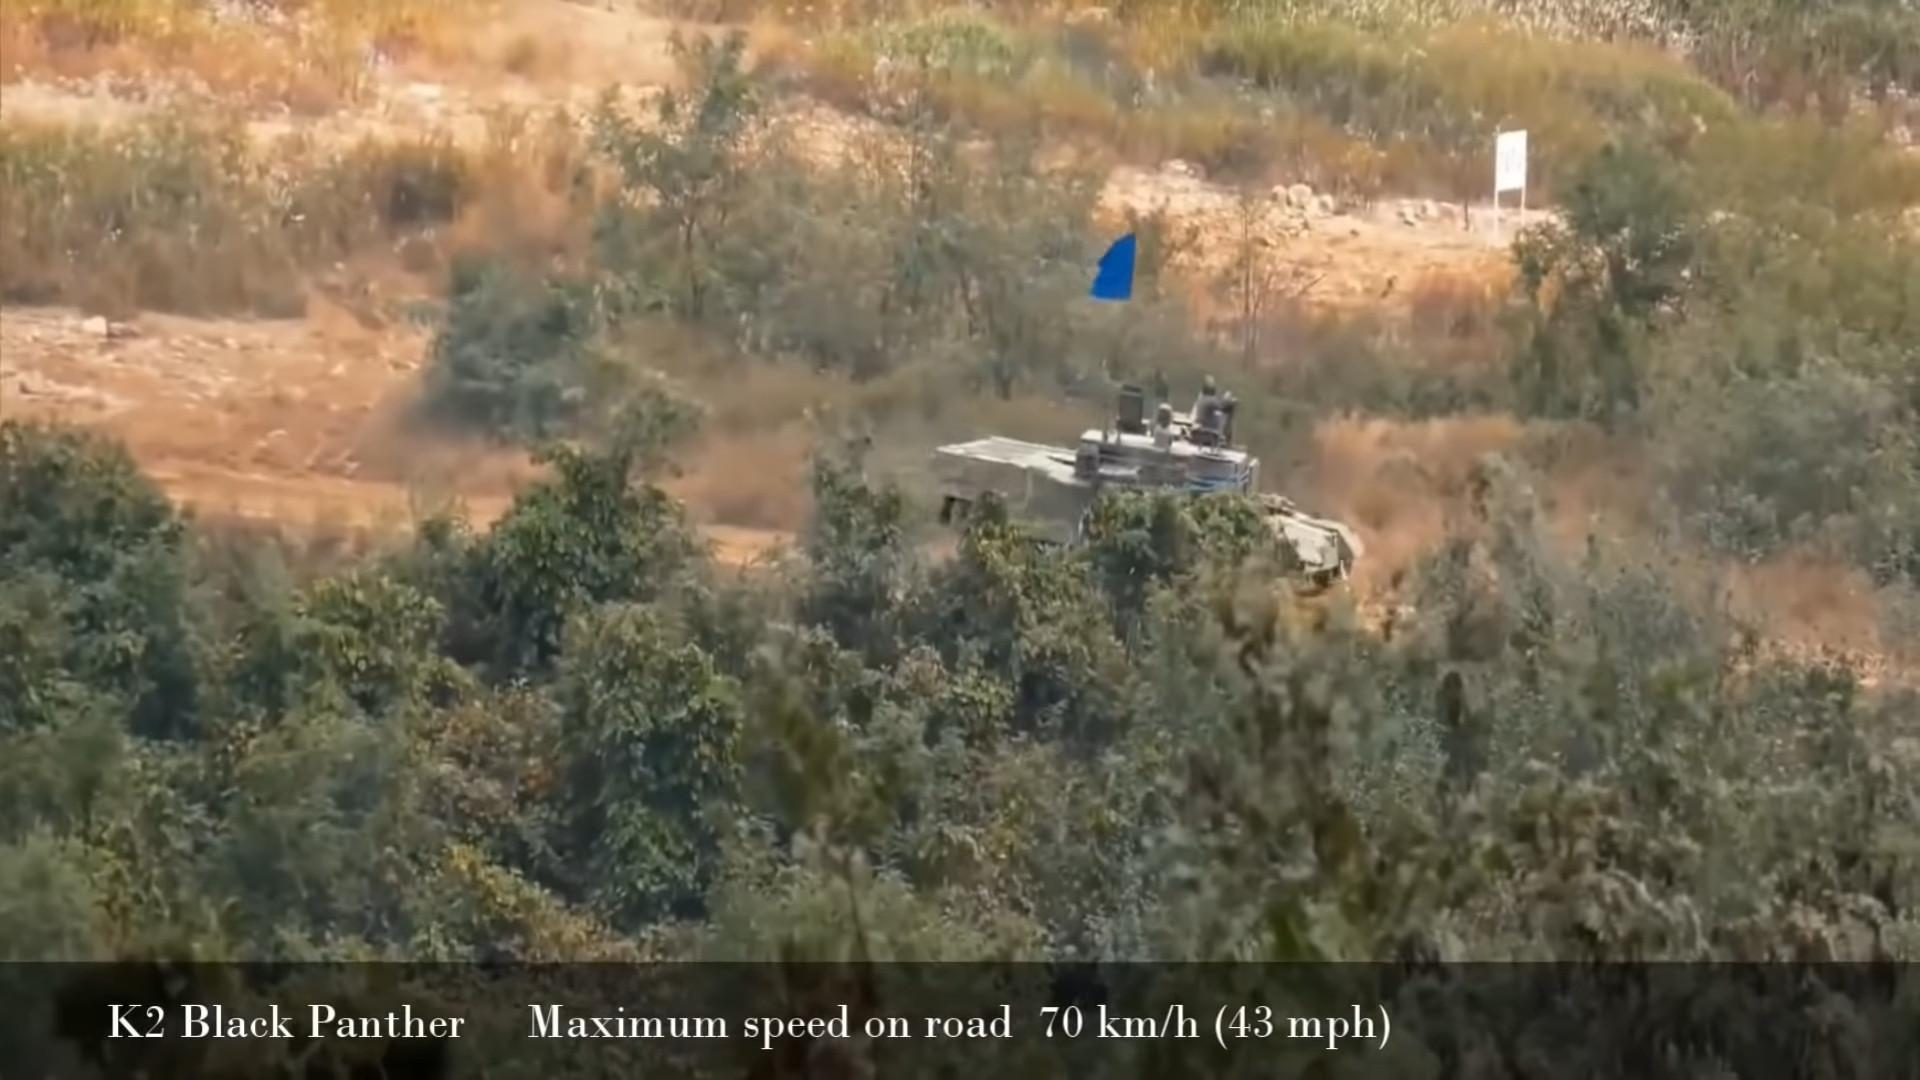tank: (938, 415, 1365, 592)
